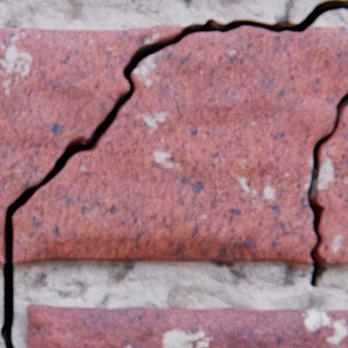brick: (26, 304, 347, 347)
broken_brick: (13, 27, 347, 263), (0, 26, 184, 263), (312, 106, 347, 263)
crack: (0, 0, 347, 347), (305, 87, 347, 288)
